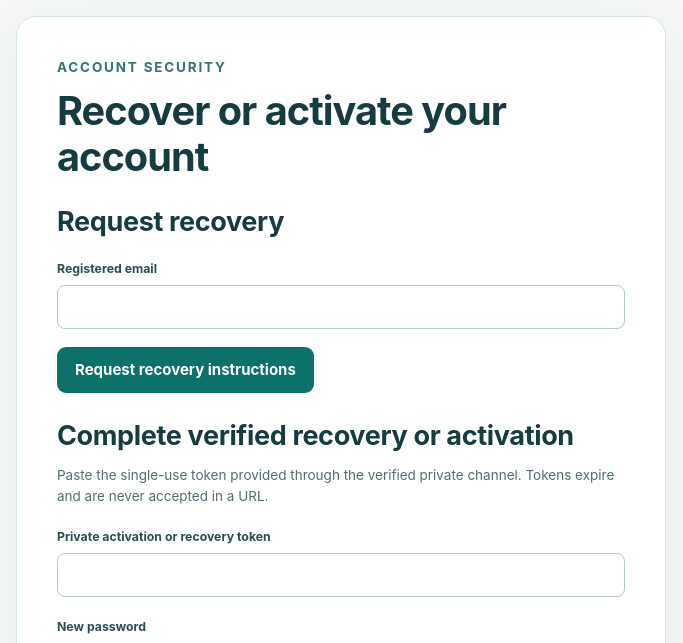
it: recovery stays generic and uses the original public recovery contract
Type "unknown@example.test" into the field labelled "Registered email".
click(341, 308); type("unknown@example.test")  # box [57,286,625,330]
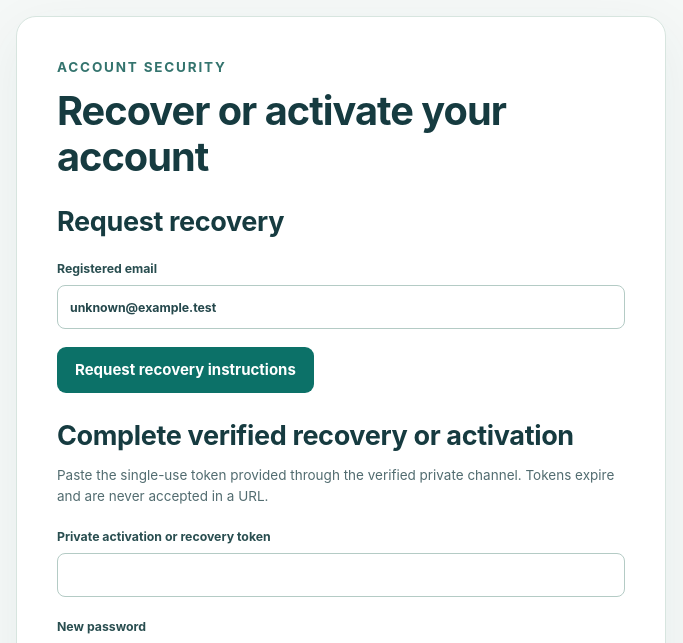
Click the button "Request recovery instructions".
click(185, 370)  # box [57,348,314,393]
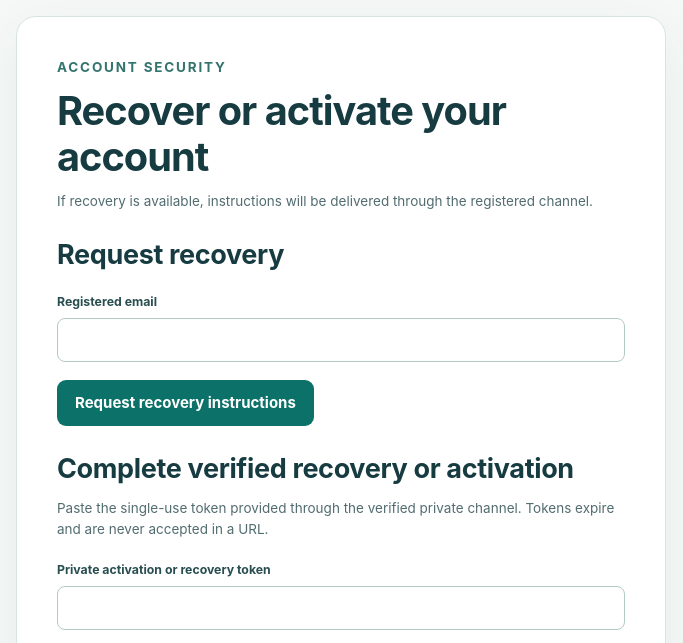
Result: the message shows "If recovery is available" at [57,193,593,209]
